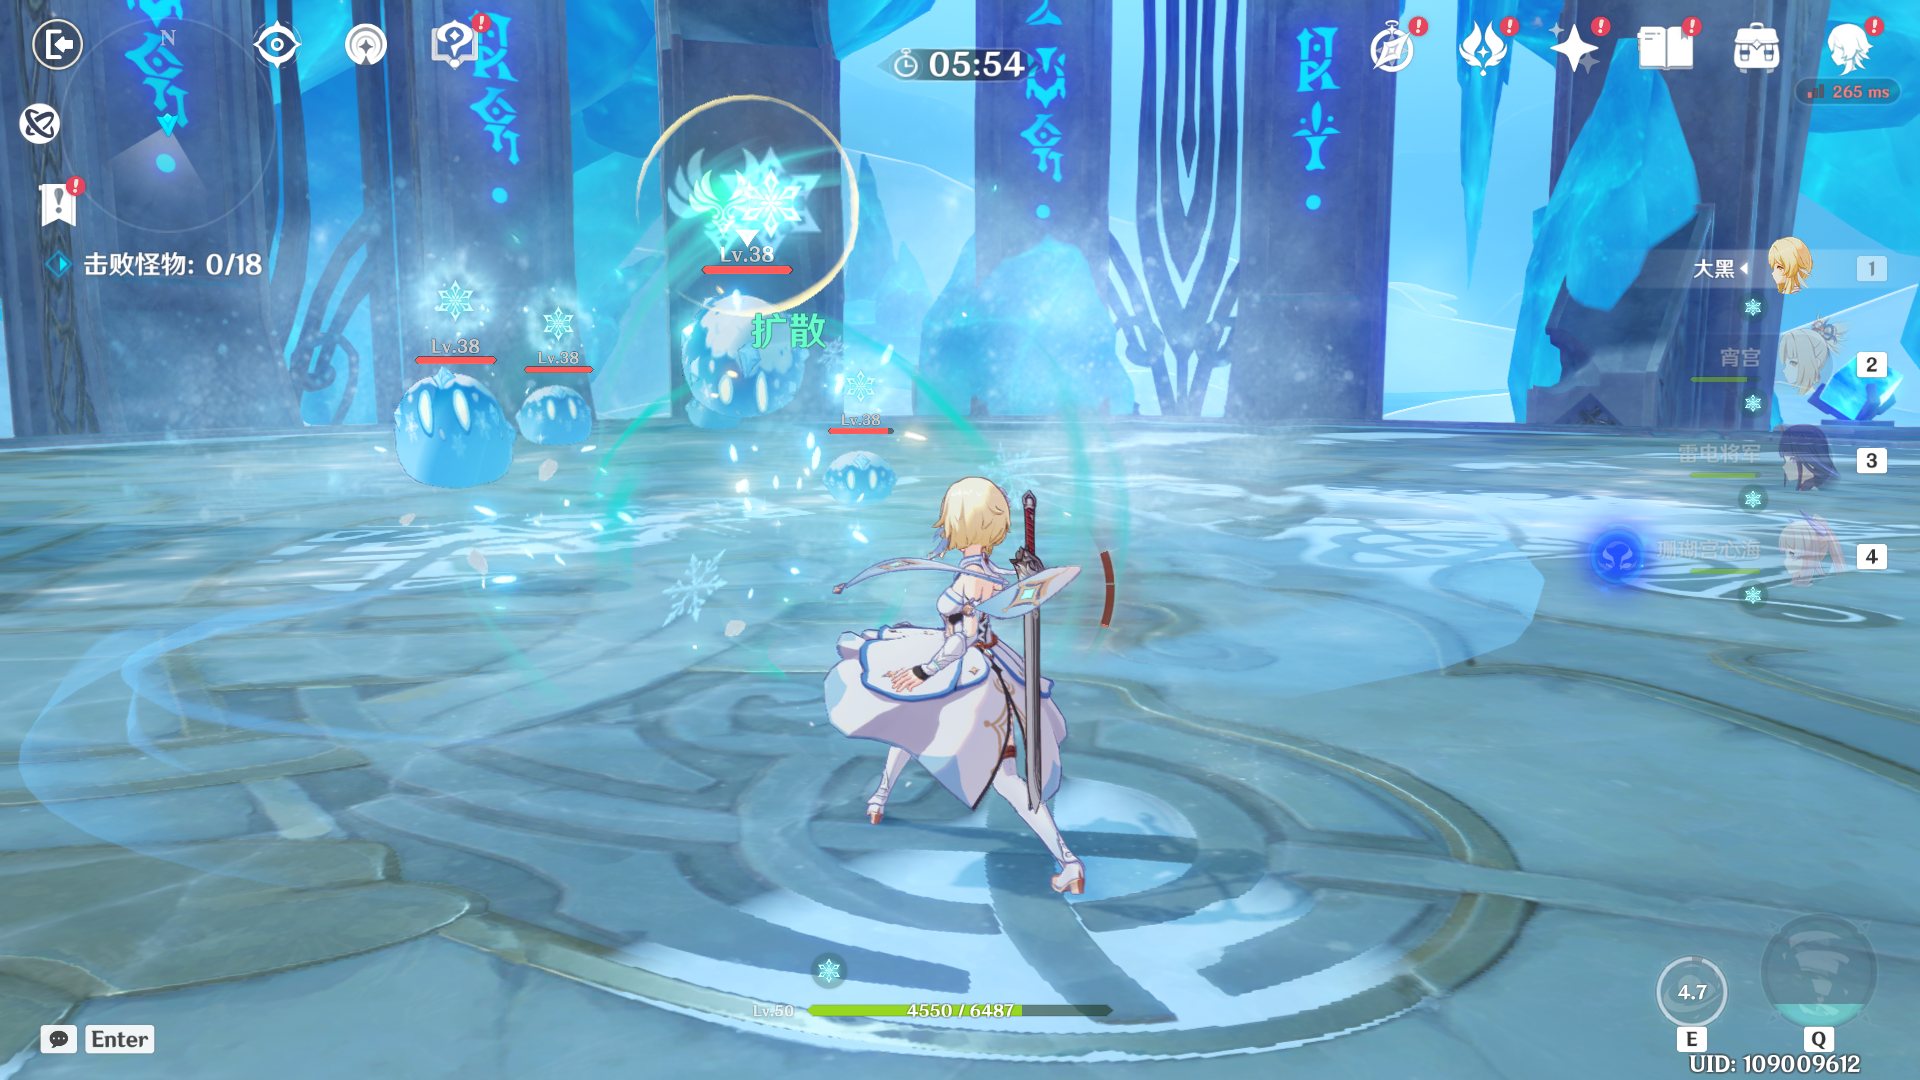character: (815, 480, 1166, 914)
slime: (632, 282, 820, 425), (365, 363, 527, 510), (512, 371, 604, 448), (808, 446, 905, 513)
